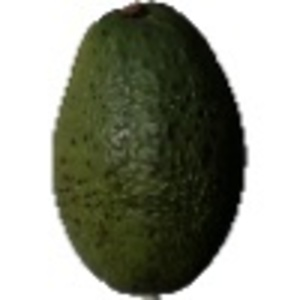abacate: (49, 1, 249, 292)
